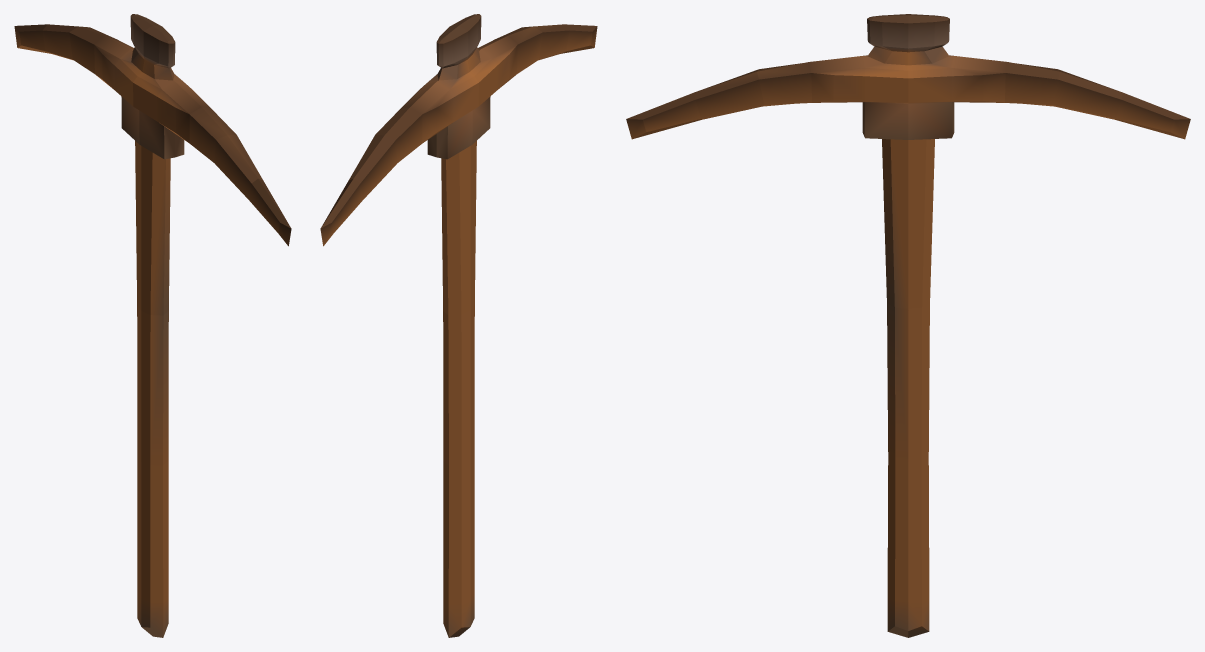
The model's file is woodenPickaxe.fbx.
3 renders of one model, left to right at view 1: azimuth 30°, elevation 25°; view 2: azimuth 150°, elevation 25°; view 3: azimuth 270°, elevation 25°, orthographic.
Visible parts, largest first — view 1: Plane.002; view 2: Plane.002; view 3: Plane.002.
Boxes of the visible parts, left/top/right/bottom form: Plane.002: left=14, top=14, right=291, bottom=637; Plane.002: left=320, top=14, right=597, bottom=637; Plane.002: left=626, top=14, right=1190, bottom=637.
Size of the model in its own units: 34.05 by 498 by 410.
